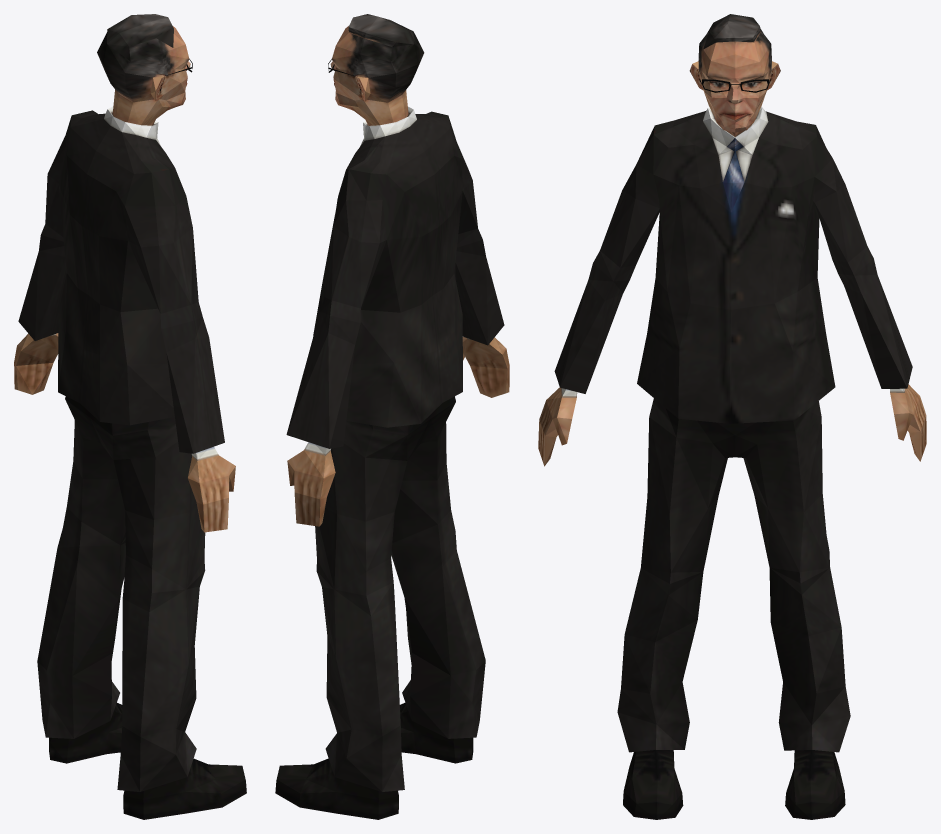
The model's file is omori.obj.
The picture shows the model from 3 angles, left to right: view 1: azimuth 30°, elevation 25°; view 2: azimuth 150°, elevation 25°; view 3: azimuth 270°, elevation 25°; orthographic projection. The views are drawn at different scales.
Parts seen in each view (by area): view 1: _Pelvis; view 2: _Pelvis; view 3: _Pelvis.
Boxes of the visible parts, x1,y1,x2,y2 form: _Pelvis: [14, 14, 246, 819]; _Pelvis: [275, 14, 509, 819]; _Pelvis: [538, 14, 926, 819].
Size of the model in its own units: 0.3325 by 1.86 by 0.8508.
1 material, 1 textured.
